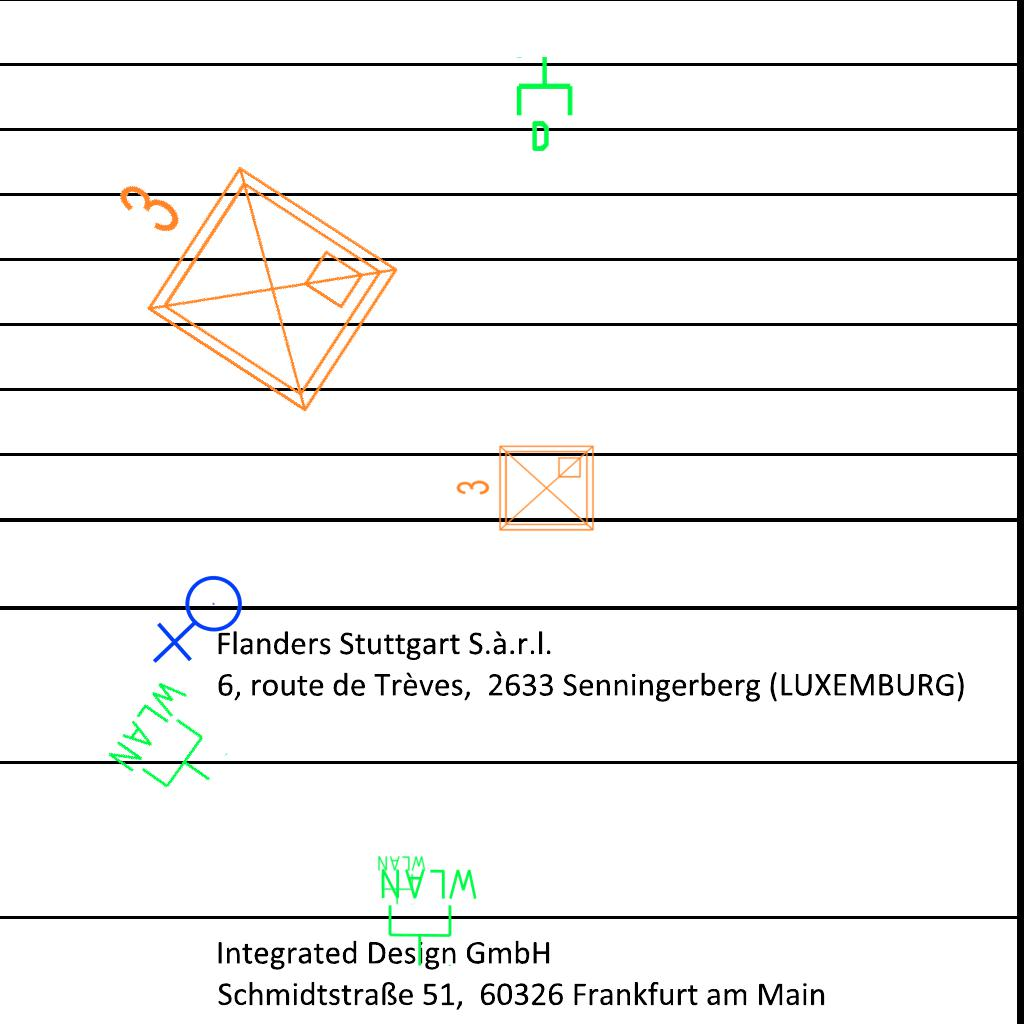Datenanschluss_einfach: (512, 54, 581, 154)
Einbaudownlights_LED_Konferenzraeume: (53, 101, 419, 439), (451, 438, 601, 542)
Elektroanschluss_allgemein_230V_Geraeteanschlussdose_230V: (152, 574, 251, 668)
WLAN: (102, 670, 248, 817), (377, 865, 482, 969), (376, 854, 428, 906)
